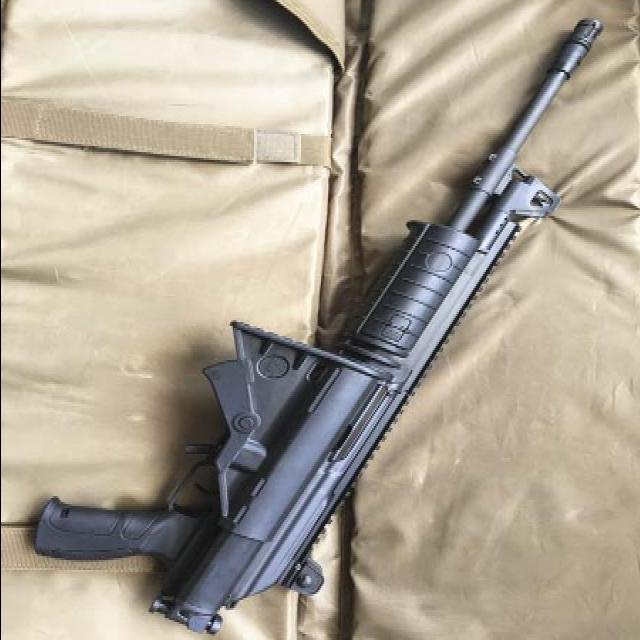rifle: (34, 21, 602, 635)
